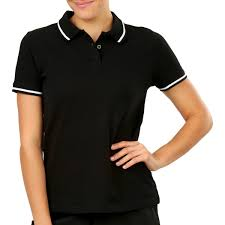C_polo shirt: (15, 19, 190, 213)
